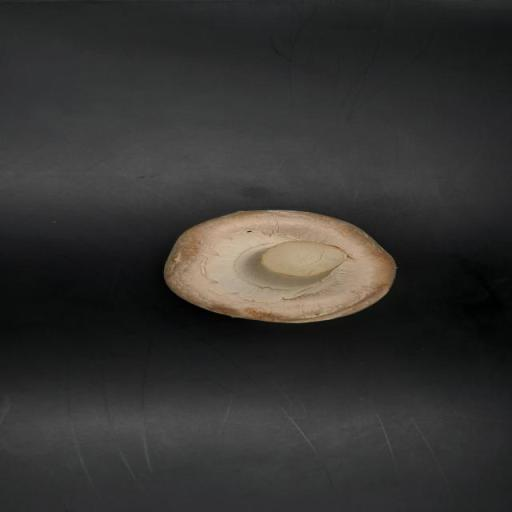Button Mushroom: (161, 202, 400, 333)
